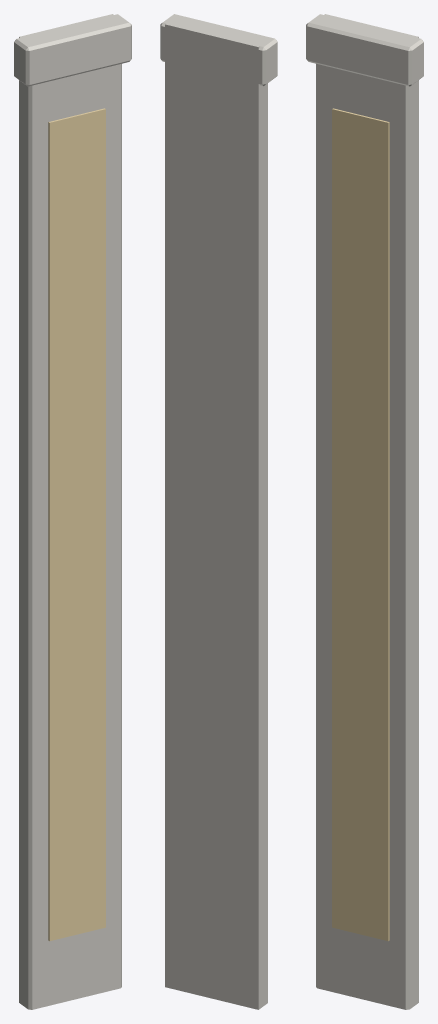
Rendered from pilaster_u_c.glb.
The picture shows the model from 3 angles, left to right: view 1: azimuth 30°, elevation 25°; view 2: azimuth 150°, elevation 25°; view 3: azimuth 330°, elevation 25°; orthographic projection.
Parts seen in each view (by area): view 1: pilaster_u_c_trim, pilaster_u_c_acc_c; view 2: pilaster_u_c_trim; view 3: pilaster_u_c_trim, pilaster_u_c_acc_c.
Part boxes in pixels (x1,y1,x2,y2): pilaster_u_c_trim: [14, 14, 131, 1009]; pilaster_u_c_acc_c: [48, 108, 105, 941]; pilaster_u_c_trim: [160, 14, 277, 1009]; pilaster_u_c_trim: [306, 14, 423, 1009]; pilaster_u_c_acc_c: [332, 108, 389, 941].
Bounding box in the file's own units: 0.34 × 2.95 × 0.08.
